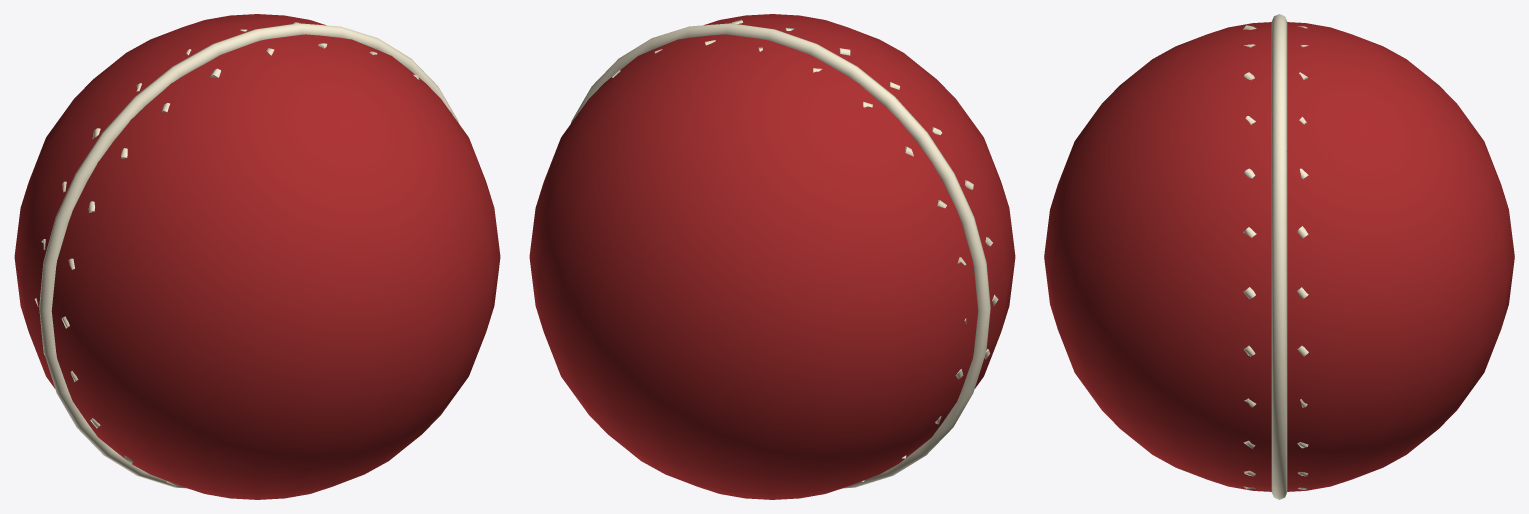
Rendered from ball.glb.
3 renders of one model, left to right at view 1: azimuth 30°, elevation 25°; view 2: azimuth 150°, elevation 25°; view 3: azimuth 270°, elevation 25°, orthographic. The views are drawn at different scales.
Parts seen in each view (by area): view 1: seamed-cricket-ball; view 2: seamed-cricket-ball; view 3: seamed-cricket-ball.
Boxes of the visible parts, left/top/right/bottom form: seamed-cricket-ball: left=14, top=14, right=500, bottom=499; seamed-cricket-ball: left=529, top=14, right=1015, bottom=499; seamed-cricket-ball: left=1044, top=14, right=1514, bottom=499.
Bounding box in the file's own units: 0.0744 × 0.0744 × 0.072.
